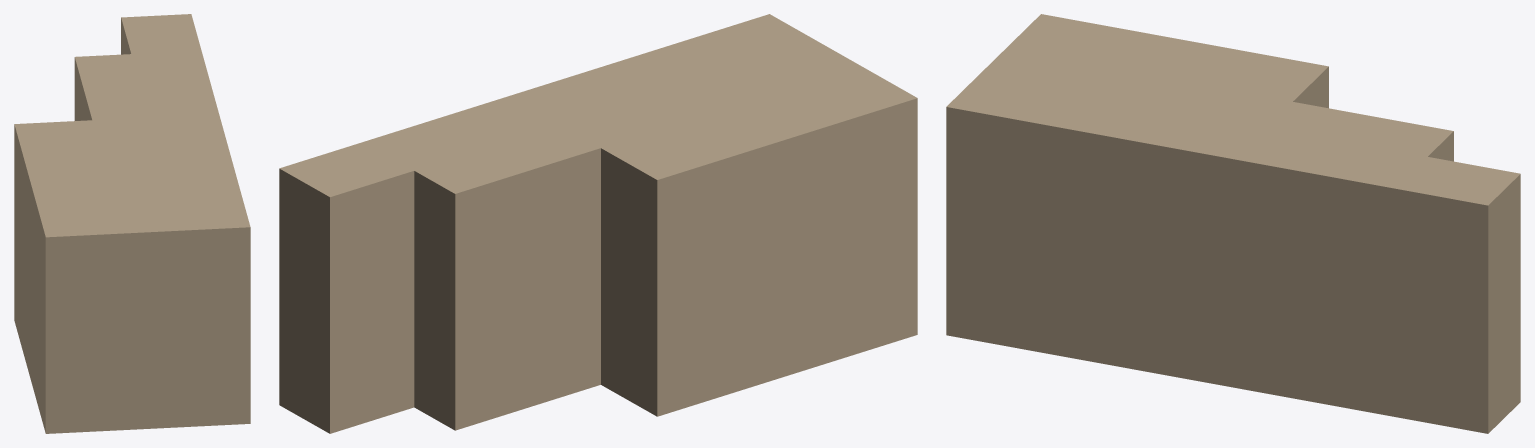
File: bld_99020551.dae
3 views of the same model, side by side, from view 1: azimuth 30°, elevation 25°; view 2: azimuth 150°, elevation 25°; view 3: azimuth 270°, elevation 25° (orthographic). The views are drawn at different scales.
Parts seen in each view (by area): view 1: bld_99020551; view 2: bld_99020551; view 3: bld_99020551.
Part boxes in pixels (<box>): bld_99020551: <box>14,14,250,433</box>; bld_99020551: <box>279,14,917,433</box>; bld_99020551: <box>946,14,1520,433</box>.
Bounding box in the file's own units: 14.39 × 18.24 × 8.
